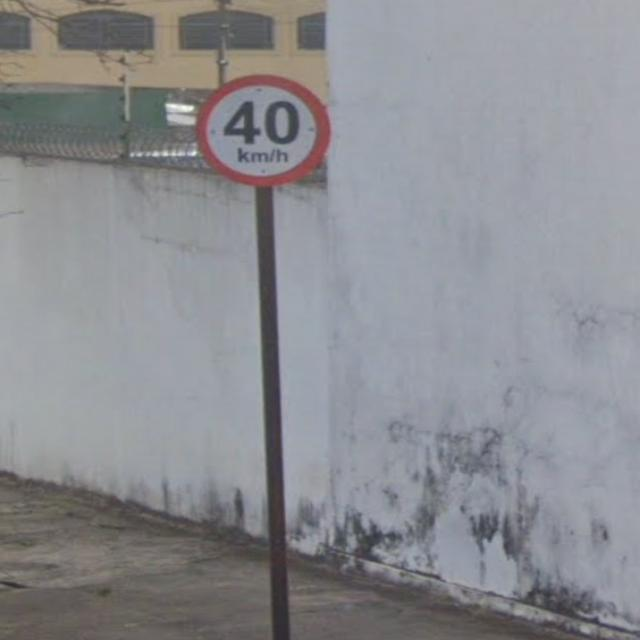speed limit: (174, 58, 339, 201)
